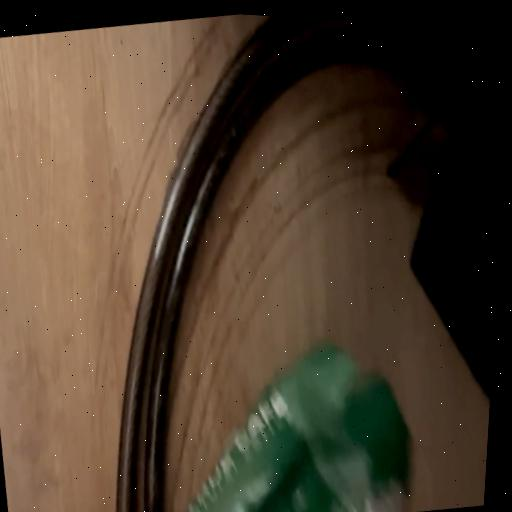cafe_xay: (186, 348, 410, 512)
